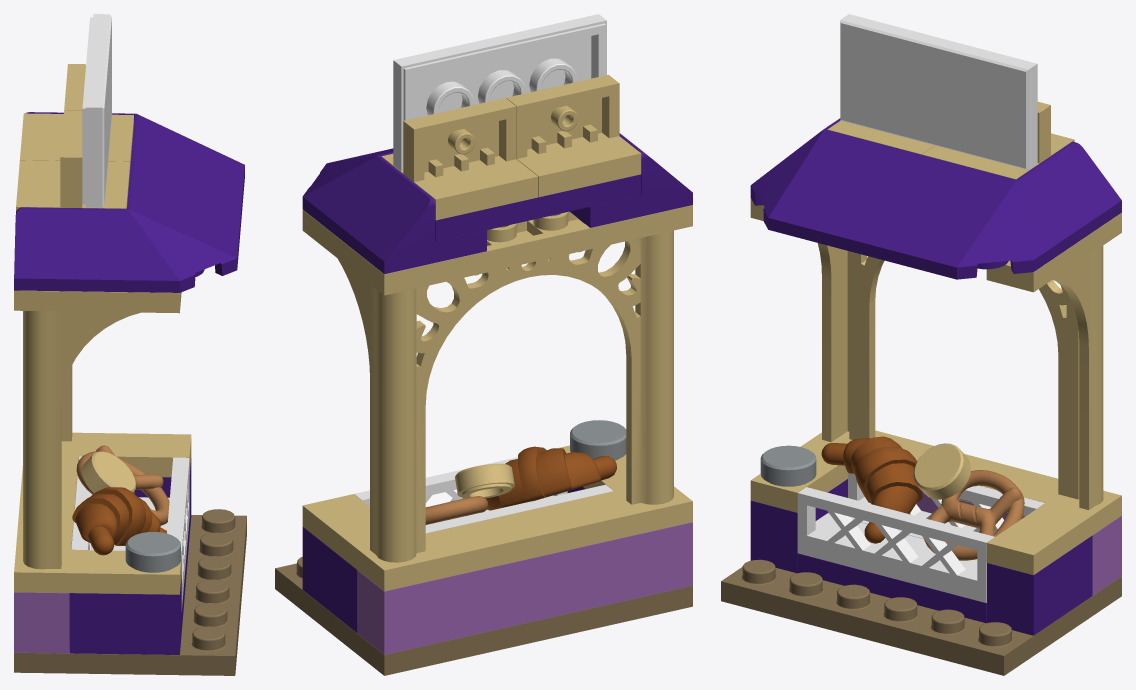
File: Arendelle Castle_store.fbx
The picture shows the model from 3 angles, left to right: view 1: azimuth 30°, elevation 25°; view 2: azimuth 150°, elevation 25°; view 3: azimuth 270°, elevation 25°; orthographic projection. The views are drawn at different scales.
Visible parts, largest first — view 1: part.477, part.478, part.470, part.473, part.481, part.482, part.480, part.485, part.471, part.476, part.483, part.486 (+3 smaller); view 2: part.477, part.471, part.478, part.482, part.480, part.481, part.470, part.479, part.485, part.474, part.483, part.486 (+3 smaller); view 3: part.478, part.477, part.482, part.470, part.476, part.474, part.485, part.472, part.484, part.473, part.486, part.480 (+4 smaller).
Boxes of the visible parts, x1,y1,x2,y2 form: part.477: [14, 290, 191, 594]; part.478: [14, 112, 244, 292]; part.470: [14, 509, 246, 675]; part.473: [69, 575, 181, 654]; part.481: [16, 110, 130, 211]; part.482: [82, 14, 111, 207]; part.480: [20, 64, 133, 164]; part.485: [72, 487, 166, 555]; part.471: [14, 592, 69, 653]; part.476: [139, 457, 189, 610]; part.483: [125, 532, 180, 572]; part.486: [81, 451, 135, 493]; part.477: [302, 205, 692, 591]; part.471: [357, 522, 692, 654]; part.478: [302, 133, 692, 274]; part.482: [393, 14, 606, 171]; part.480: [381, 98, 538, 220]; part.481: [506, 75, 641, 197]; part.470: [275, 557, 692, 675]; part.479: [435, 174, 641, 241]; part.485: [485, 446, 616, 510]; part.474: [302, 527, 357, 632]; part.483: [570, 420, 626, 460]; part.486: [455, 463, 514, 498]; part.478: [750, 118, 1121, 279]; part.477: [750, 198, 1121, 574]; part.482: [840, 14, 1037, 170]; part.470: [721, 559, 1121, 675]; part.476: [797, 487, 994, 602]; part.474: [987, 536, 1092, 635]; part.485: [821, 436, 922, 543]; part.472: [797, 553, 986, 623]; part.484: [924, 470, 1024, 560]; part.473: [750, 479, 847, 573]; part.486: [913, 443, 971, 499]; part.480: [922, 101, 1074, 179].
Bounding box in the file's own units: 5246 × 8634 × 5755.
